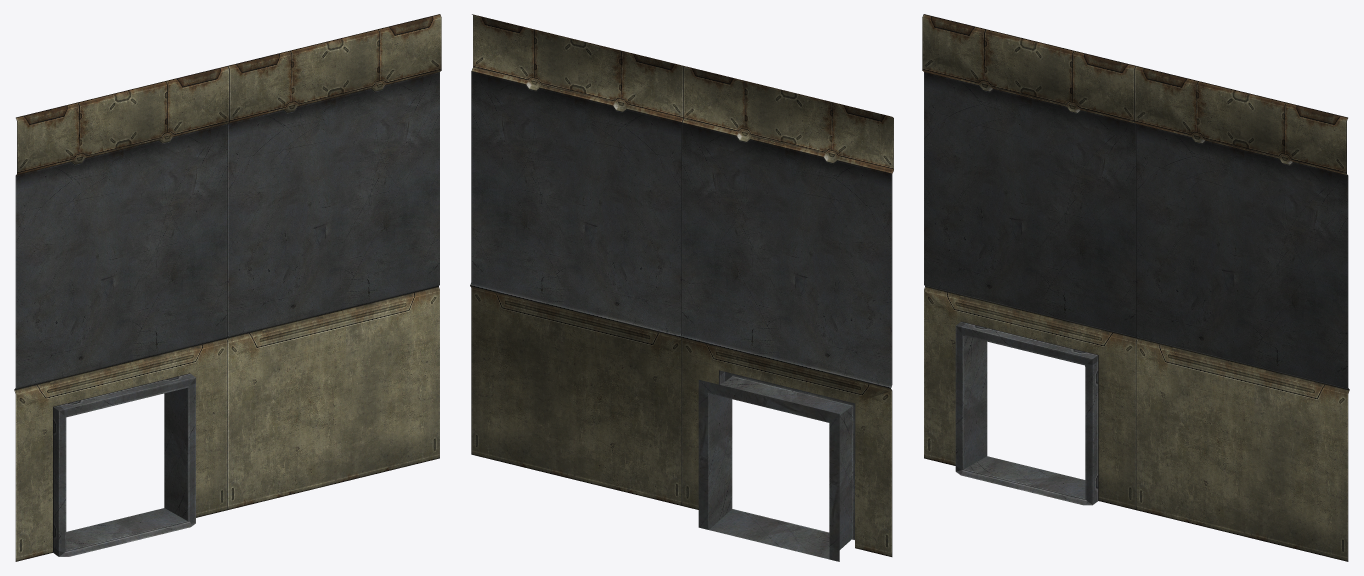
The model's file is datasite_flat01_hatch.dae.
3 renders of one model, left to right at view 1: azimuth 30°, elevation 25°; view 2: azimuth 150°, elevation 25°; view 3: azimuth 330°, elevation 25°, orthographic.
Visible parts, largest first — view 1: polySurface29; view 2: polySurface29; view 3: polySurface29.
Boxes of the visible parts, box(x1,y1,x2,y2) form: polySurface29: box(14, 14, 441, 561); polySurface29: box(470, 14, 893, 561); polySurface29: box(922, 14, 1349, 561).
Bounding box in the file's own units: 4 × 4 × 0.43.
